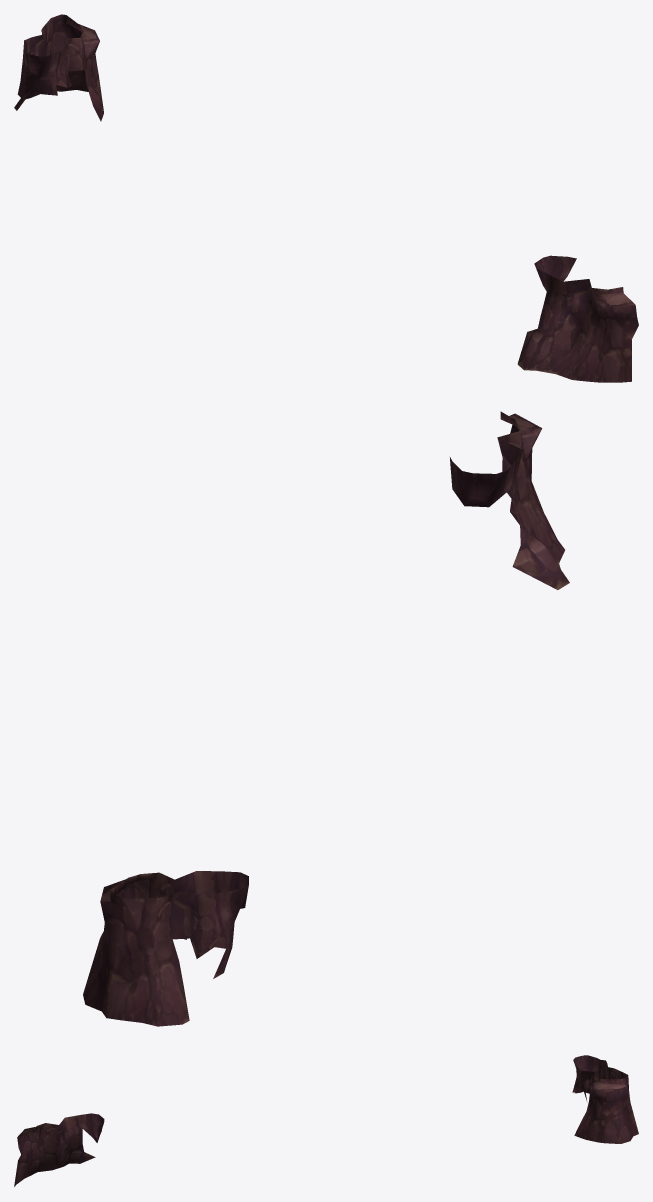
File: zrea12_shiqiang_03.FBX
3 renders of one model, top to bottom at view 1: azimuth 30°, elevation 25°; view 2: azimuth 150°, elevation 25°; view 3: azimuth 270°, elevation 25°, orthographic. The views are drawn at different scales.
Parts seen in each view (by area): view 1: zrea12_shiqiang_03; view 2: zrea12_shiqiang_03; view 3: zrea12_shiqiang_03.
Part boxes in pixels (<box>): zrea12_shiqiang_03: <box>14,14,638,382</box>; zrea12_shiqiang_03: <box>83,411,569,1026</box>; zrea12_shiqiang_03: <box>14,1055,638,1186</box>.
Bounding box in the file's own units: 3101 × 1173 × 10819.
